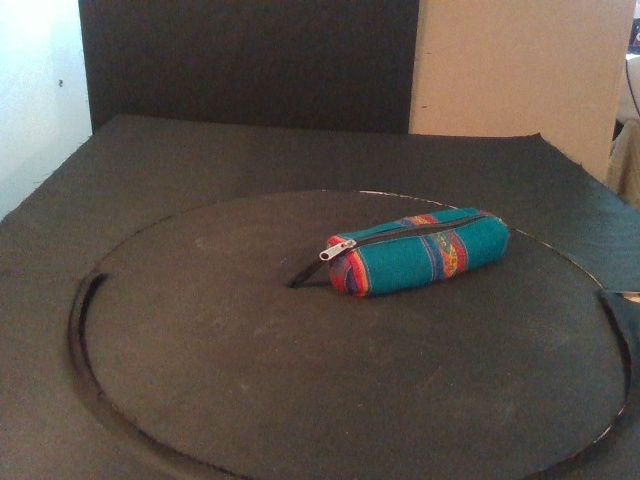pencil_case: (325, 207, 508, 297)
